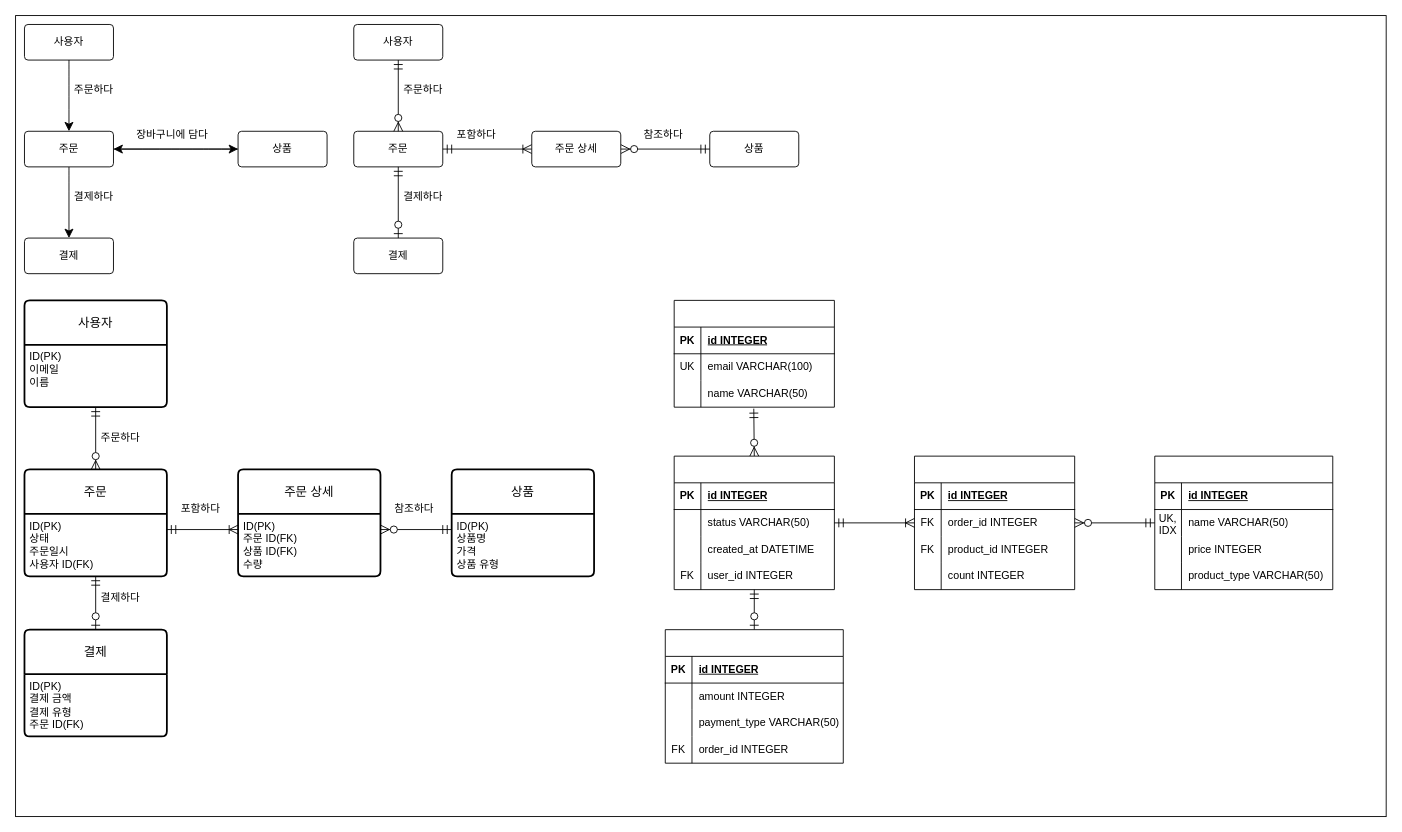
This 1402x832 diagram has some shape labels left out. The shapes that lost their labels are listed below. From the top down, each one's box as (x1, y1, x2, y2) in pixels, then its label:
(673, 299, 834, 407): users
(673, 455, 834, 590): orders
(914, 455, 1075, 590): order_details
(1154, 455, 1333, 590): products
(664, 629, 843, 763): payments
